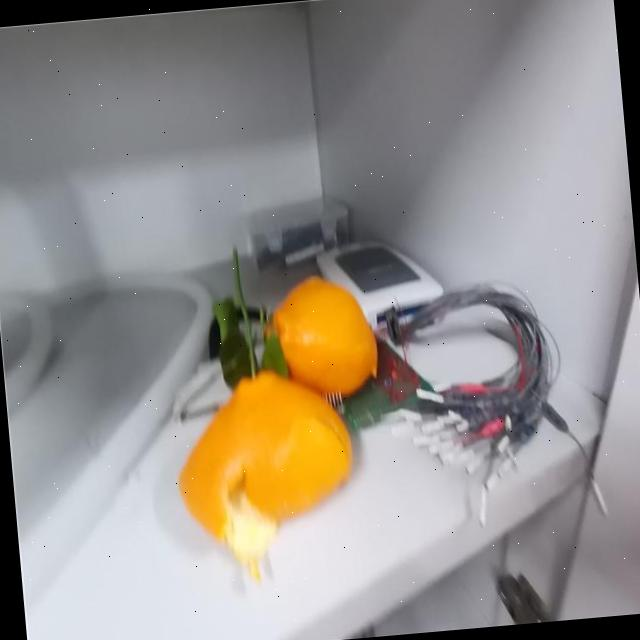orange-peel: (166, 360, 364, 584)
